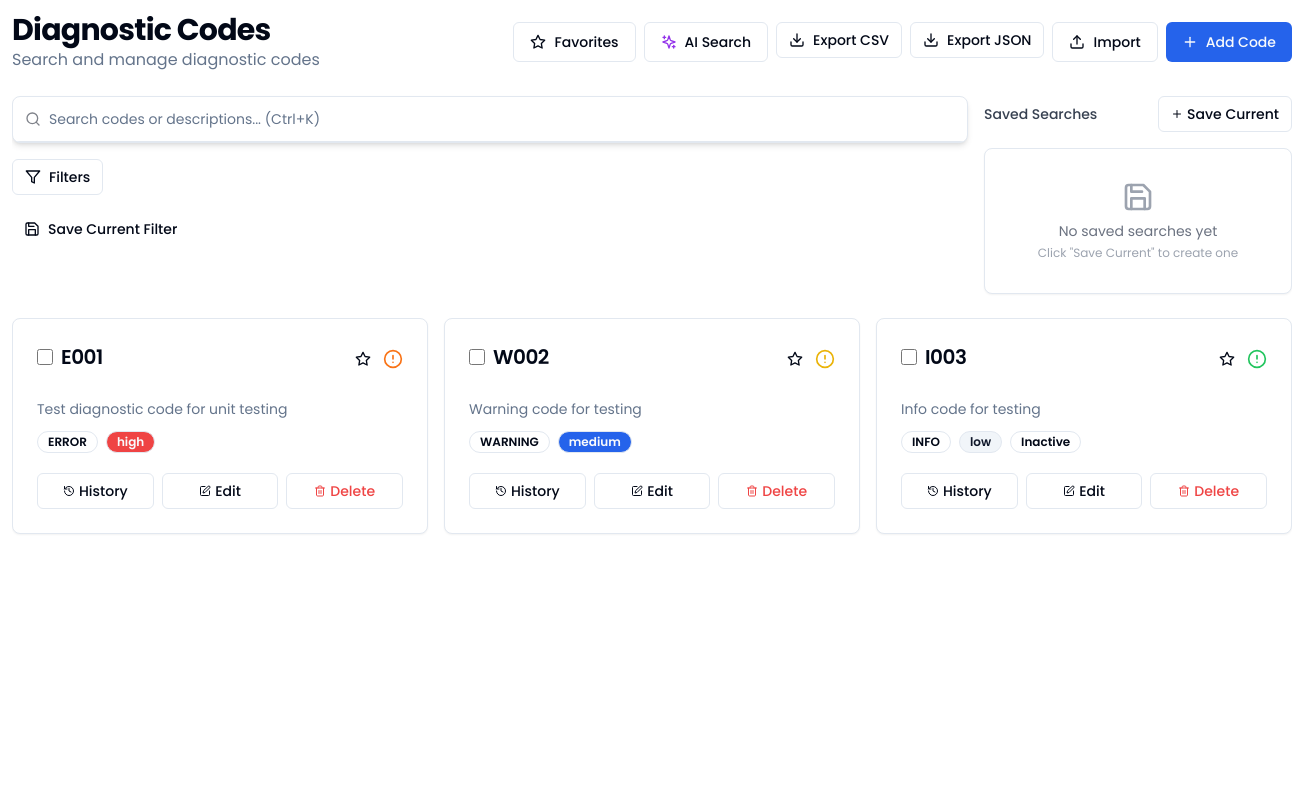
Test: HomePage › selects all codes when Select All is clicked
The image size is (1304, 812).
Note: First select one item to show bulk actions bar
Click the checkbox next to "E001": (45, 357) [37,349,53,365]
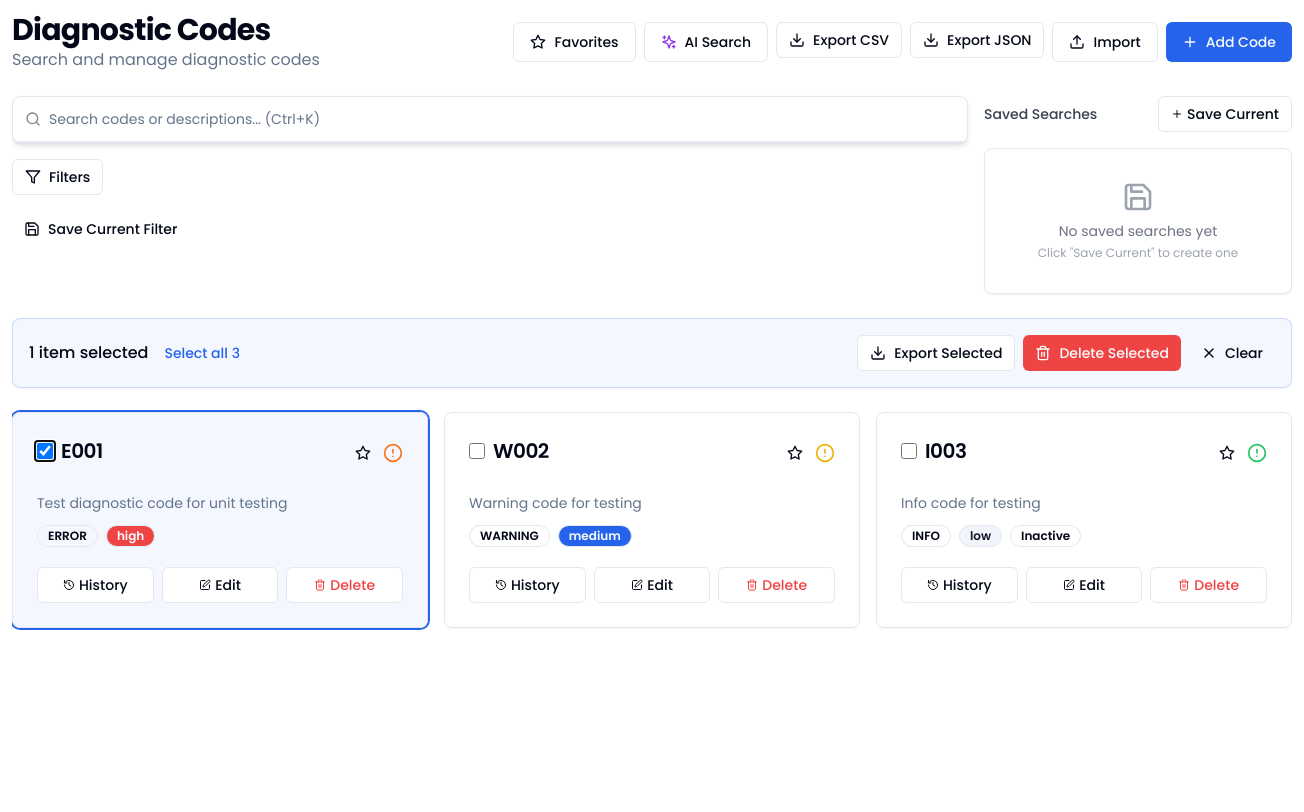
Note: Now find and click select all button
Click the button "Select all 3": (202, 353) [164,343,240,363]
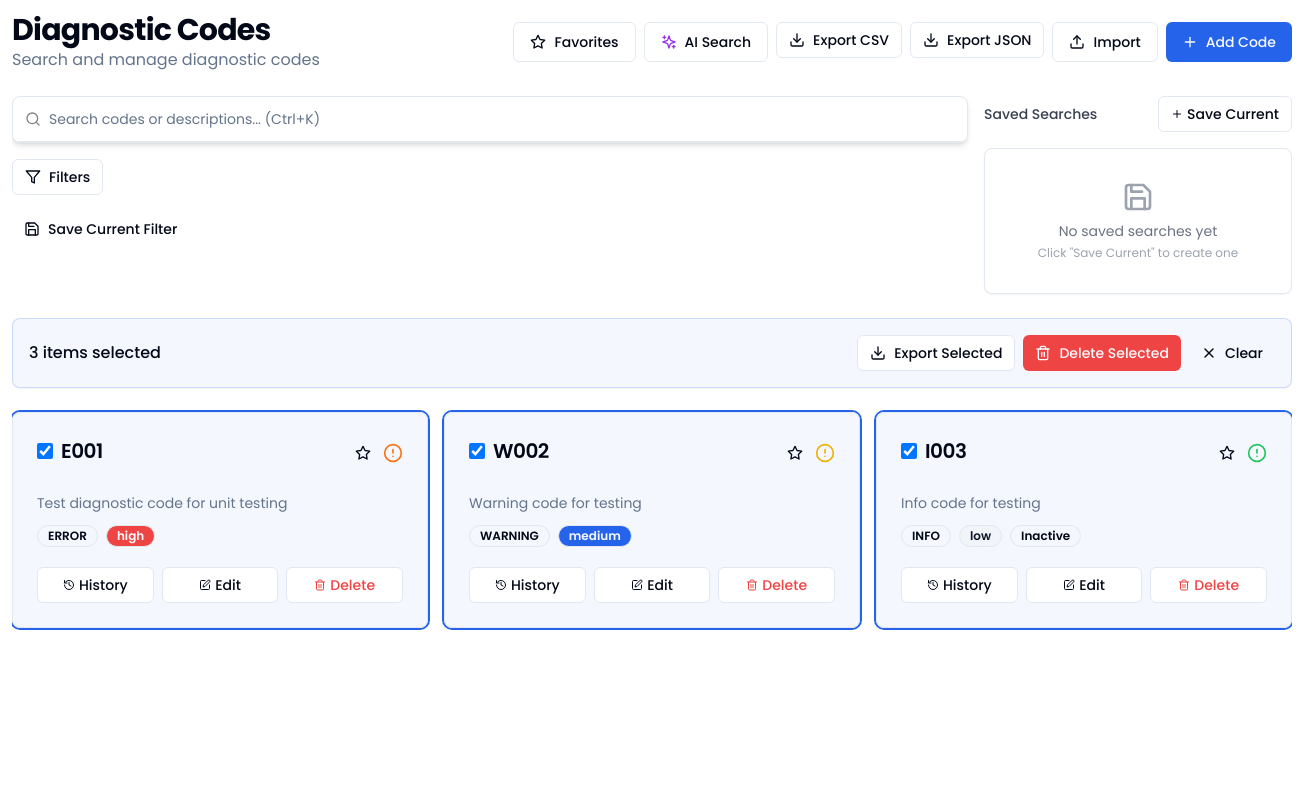
expect the checkbox next to "E001" is checked: met, box [37,443,53,459]
expect the checkbox next to "W002" is checked: met, box [469,443,485,459]
expect the checkbox next to "I003" is checked: met, box [901,443,917,459]
